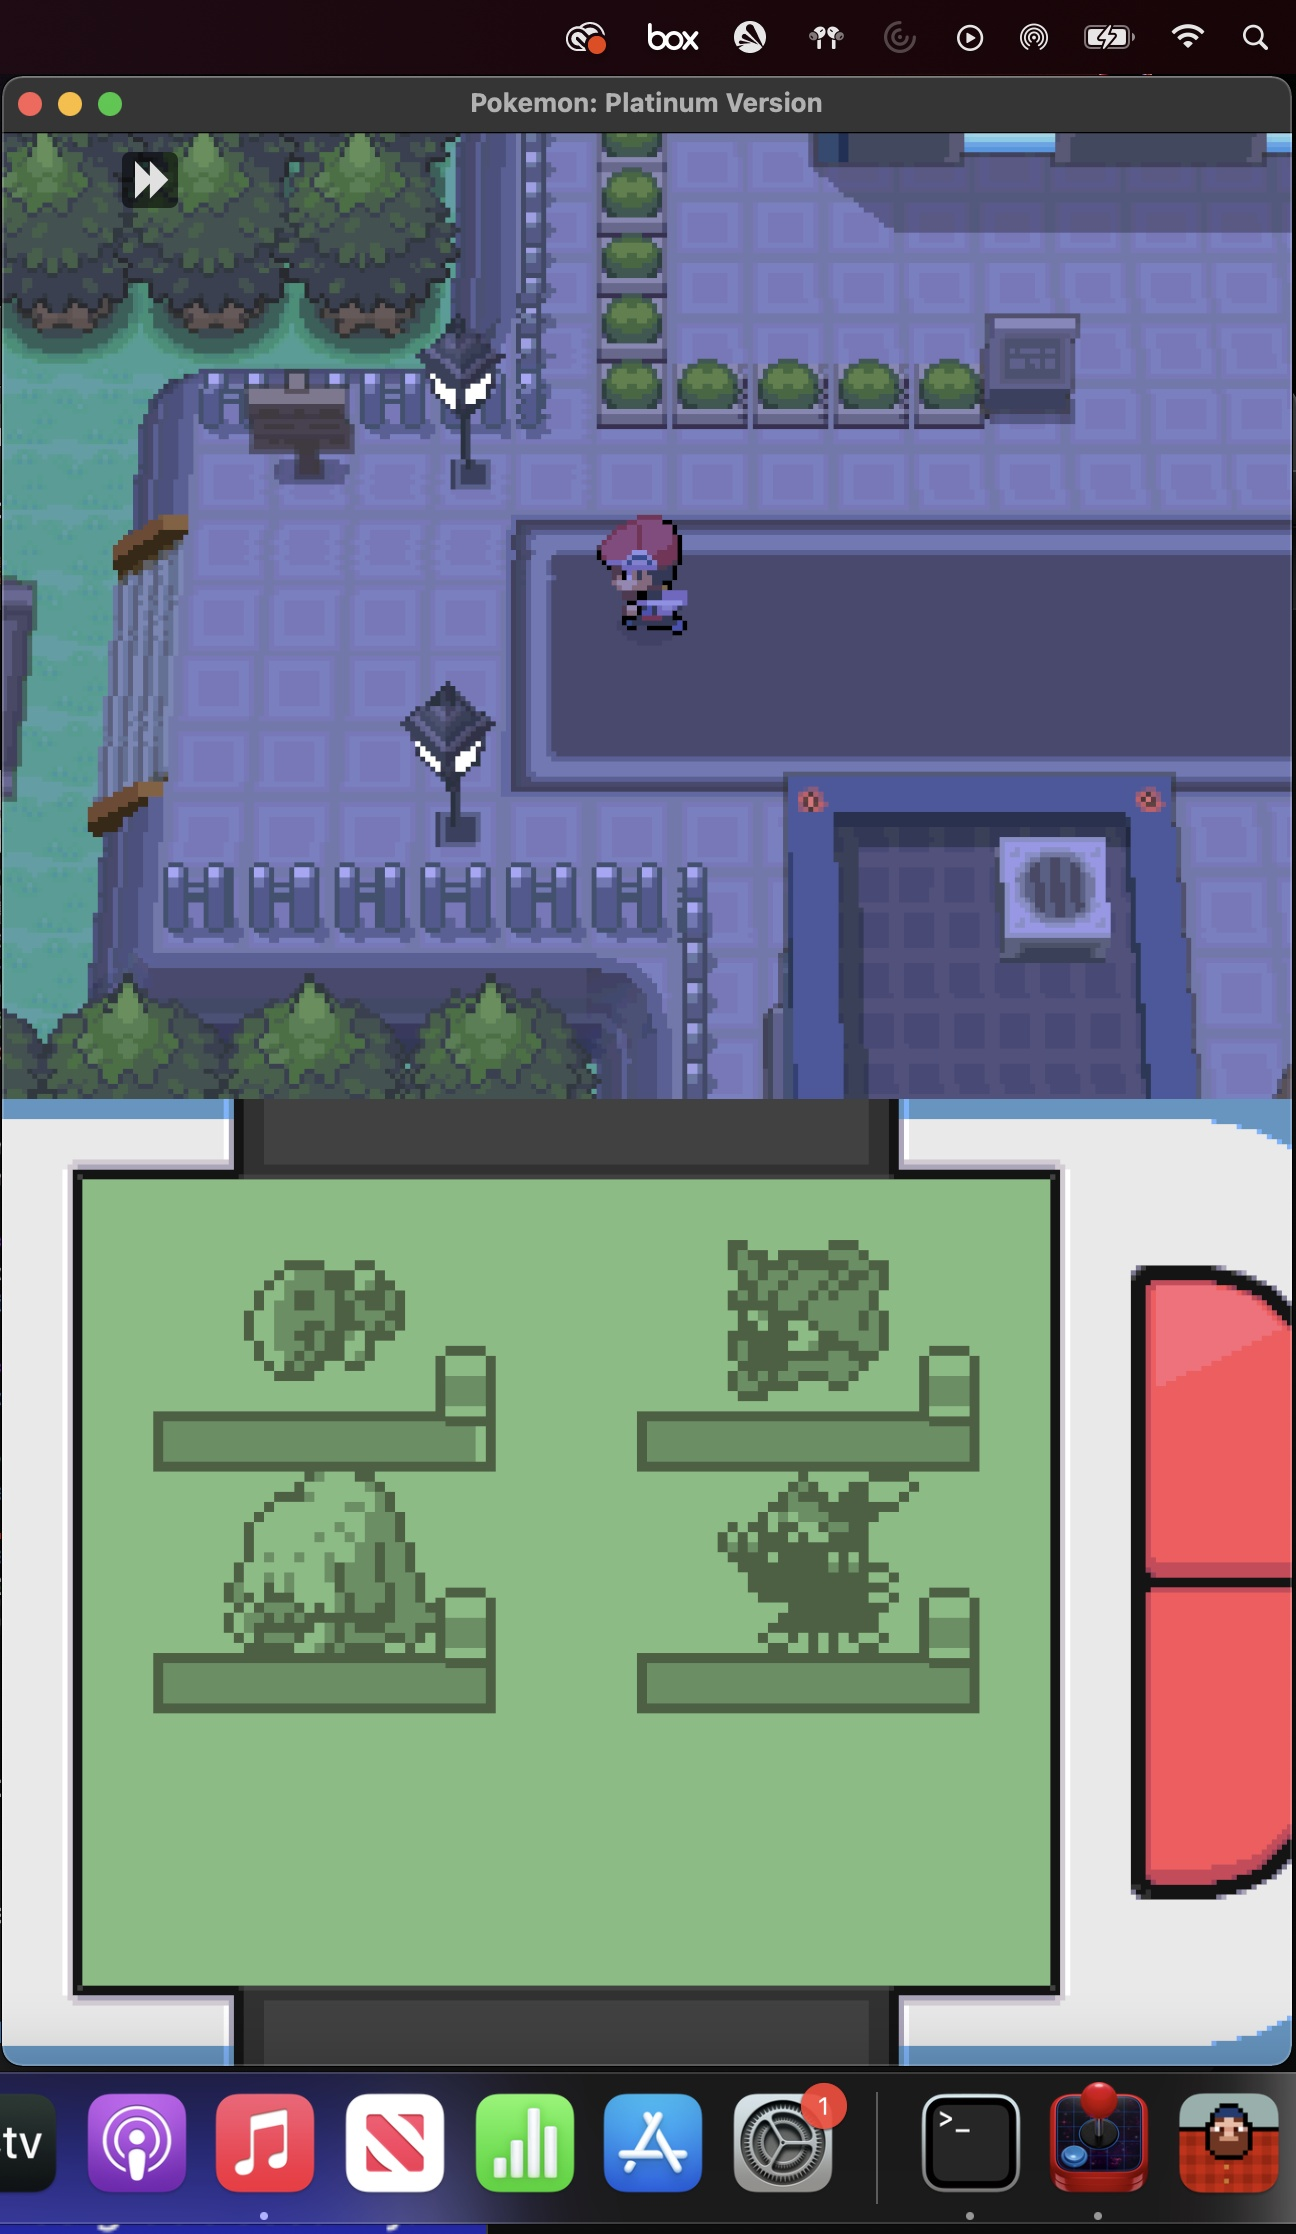player: (590, 522, 695, 633)
turn right: (203, 317, 524, 506)
